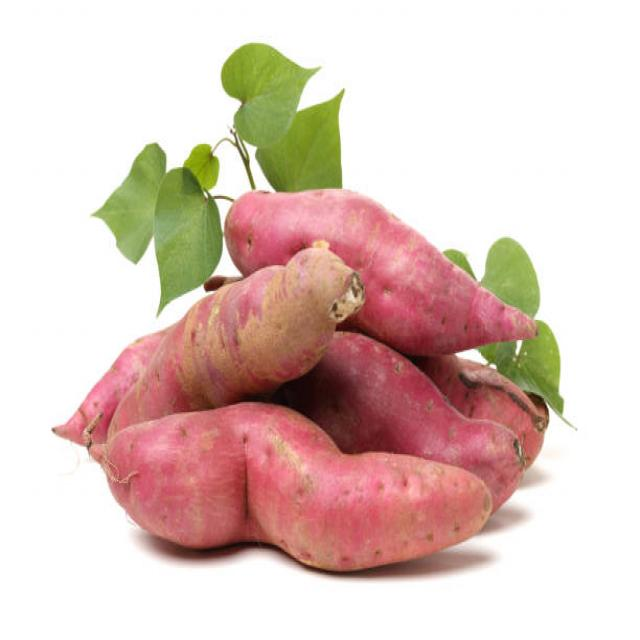Sweet Potato: (94, 393, 491, 577), (351, 194, 542, 362), (196, 251, 365, 398)
